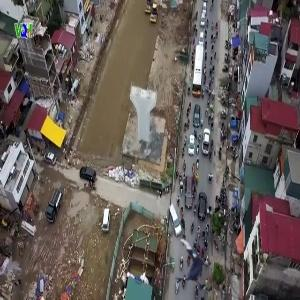drone: (166, 240, 217, 291)
